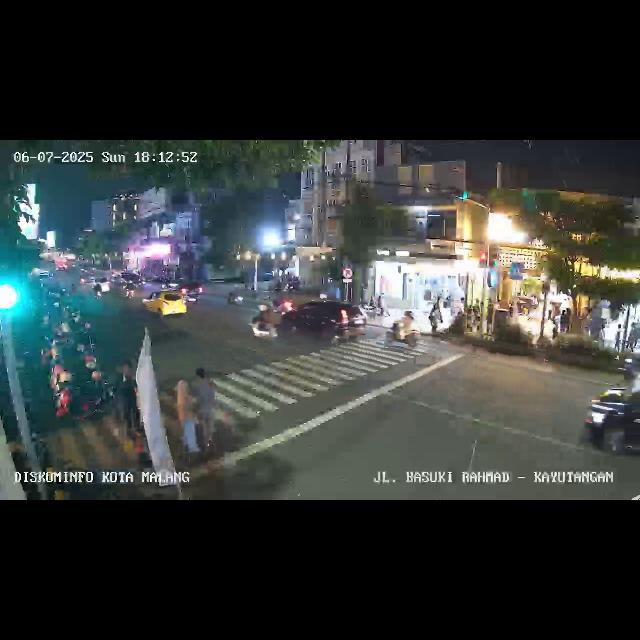car: (584, 379, 640, 461), (278, 300, 362, 344), (142, 286, 190, 322)
motorcycle: (249, 301, 279, 345), (388, 310, 420, 350), (227, 284, 246, 308), (92, 277, 105, 299)
person: (110, 361, 142, 444), (172, 378, 202, 454), (192, 367, 218, 451), (428, 302, 440, 334), (561, 306, 571, 334), (614, 323, 622, 351), (632, 320, 640, 348), (600, 324, 606, 348), (458, 298, 466, 314)
